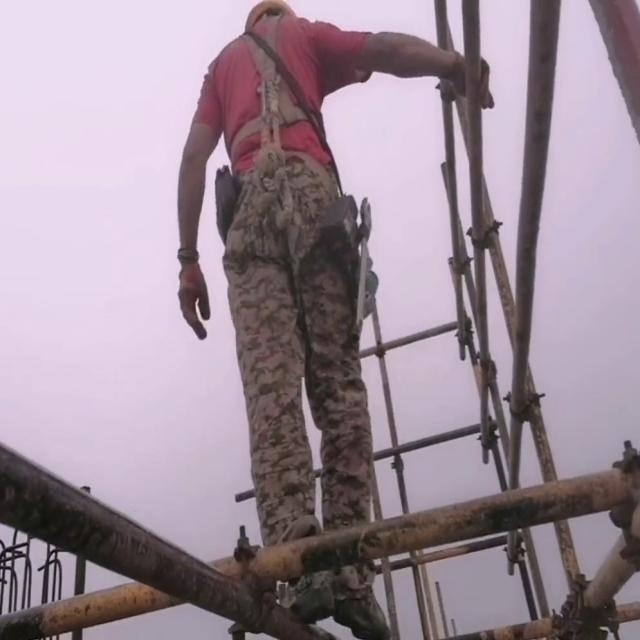Arnes_seguridad: (209, 15, 329, 171)
